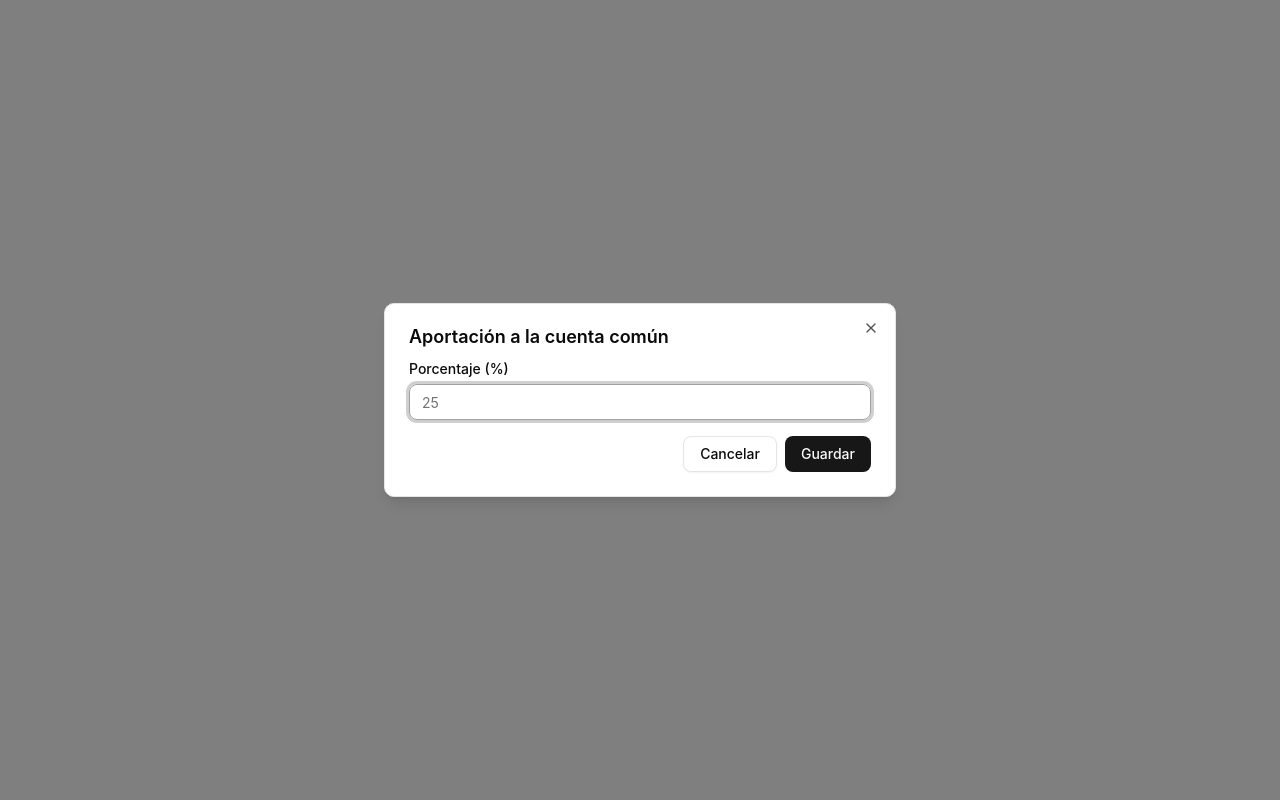
Test: CommonContributionConfigDialog › errores por campo con role=alert, valor conservado y diálogo abierto
Click the button "Guardar" at point(828, 454), box [785,436,871,472]
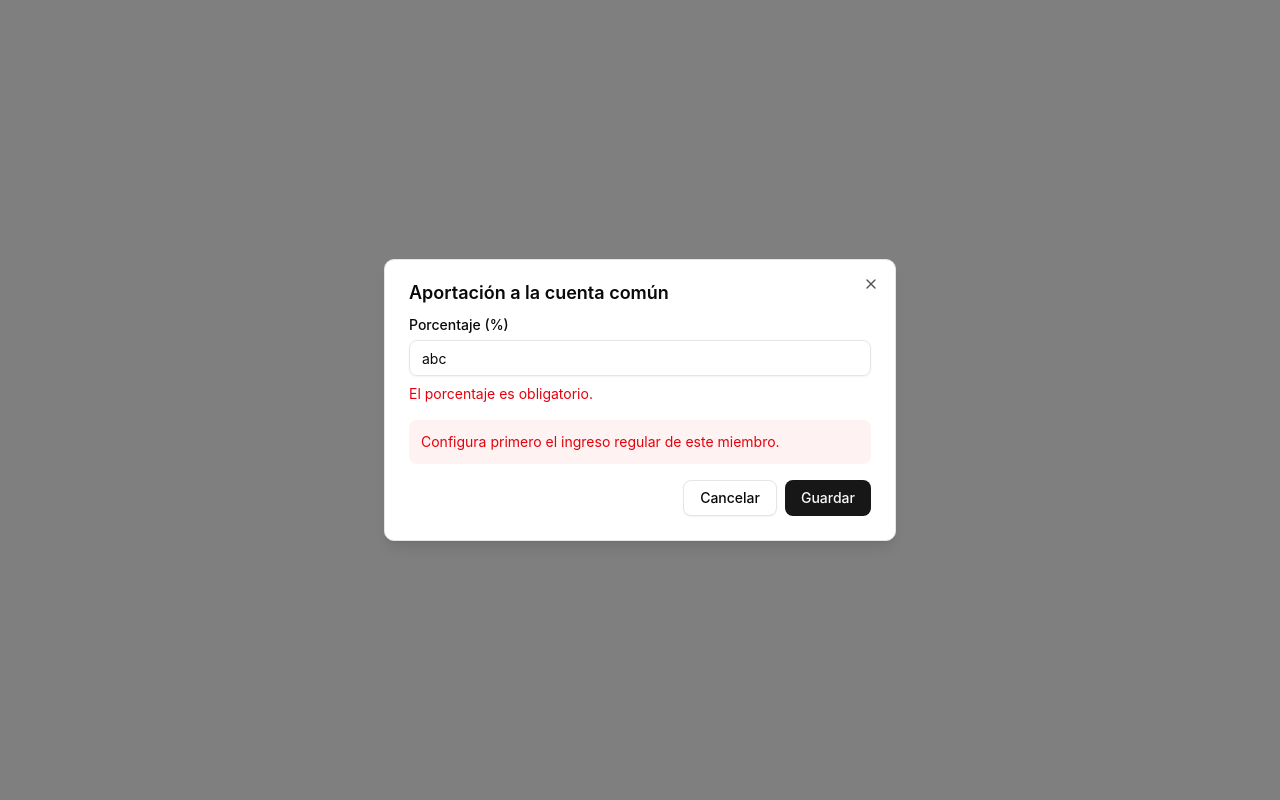
Expected: the messages read "El porcentaje es obligatorio.", "Configura primero el ingreso regular de este miembro.", in this order, [409,385,593,402]; [409,420,871,464]
Expected: the field labelled "Porcentaje (%)" holds "abc", [409,340,871,376]
